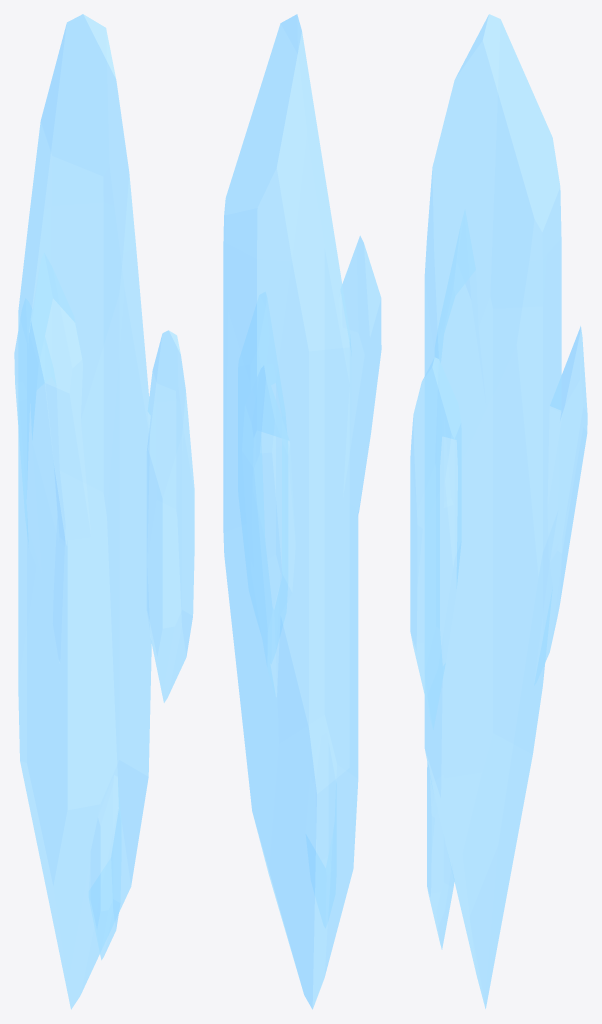
The model's file is NewCrystal.fbx.
3 renders of one model, left to right at view 1: azimuth 30°, elevation 25°; view 2: azimuth 150°, elevation 25°; view 3: azimuth 270°, elevation 25°, orthographic.
Visible parts, largest first — view 1: crystal.004; view 2: crystal.004; view 3: crystal.004.
Boxes of the visible parts, left/top/right/bottom form: crystal.004: left=14, top=14, right=194, bottom=1009; crystal.004: left=223, top=14, right=381, bottom=1009; crystal.004: left=410, top=14, right=587, bottom=1008.
Size of the model in its own units: 2510 by 16149 by 2584.
